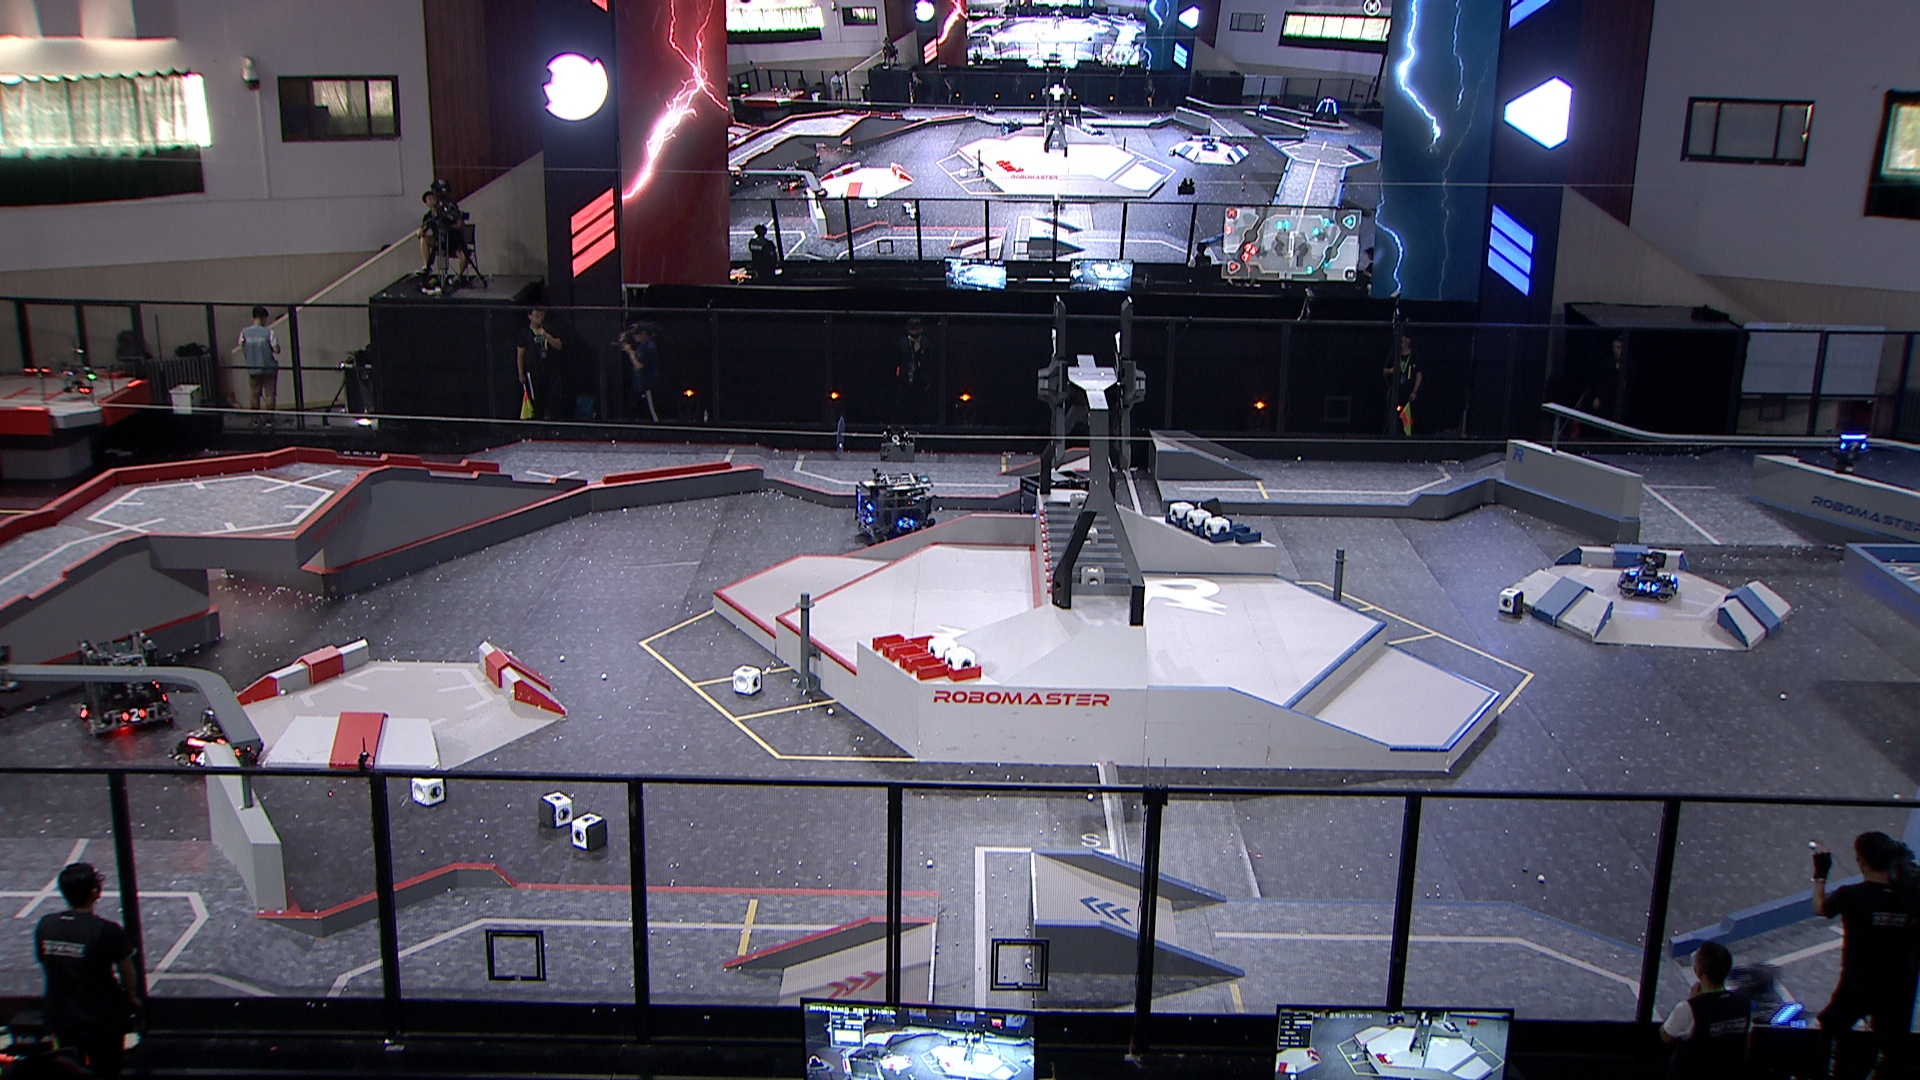armor: (123, 707, 148, 725), (1840, 440, 1869, 455), (187, 750, 208, 767), (895, 517, 916, 531), (1636, 582, 1660, 593), (861, 512, 874, 527), (1627, 564, 1640, 576)
car: (1698, 964, 1816, 1065), (71, 632, 177, 737), (1013, 467, 1097, 549), (171, 707, 262, 778), (855, 469, 939, 545), (1619, 551, 1679, 603)
ignore: (1307, 98, 1340, 128), (775, 162, 802, 191), (728, 164, 749, 185), (1000, 119, 1022, 135), (1201, 135, 1221, 152), (1254, 102, 1269, 120)
watcher: (1836, 433, 1871, 473)
